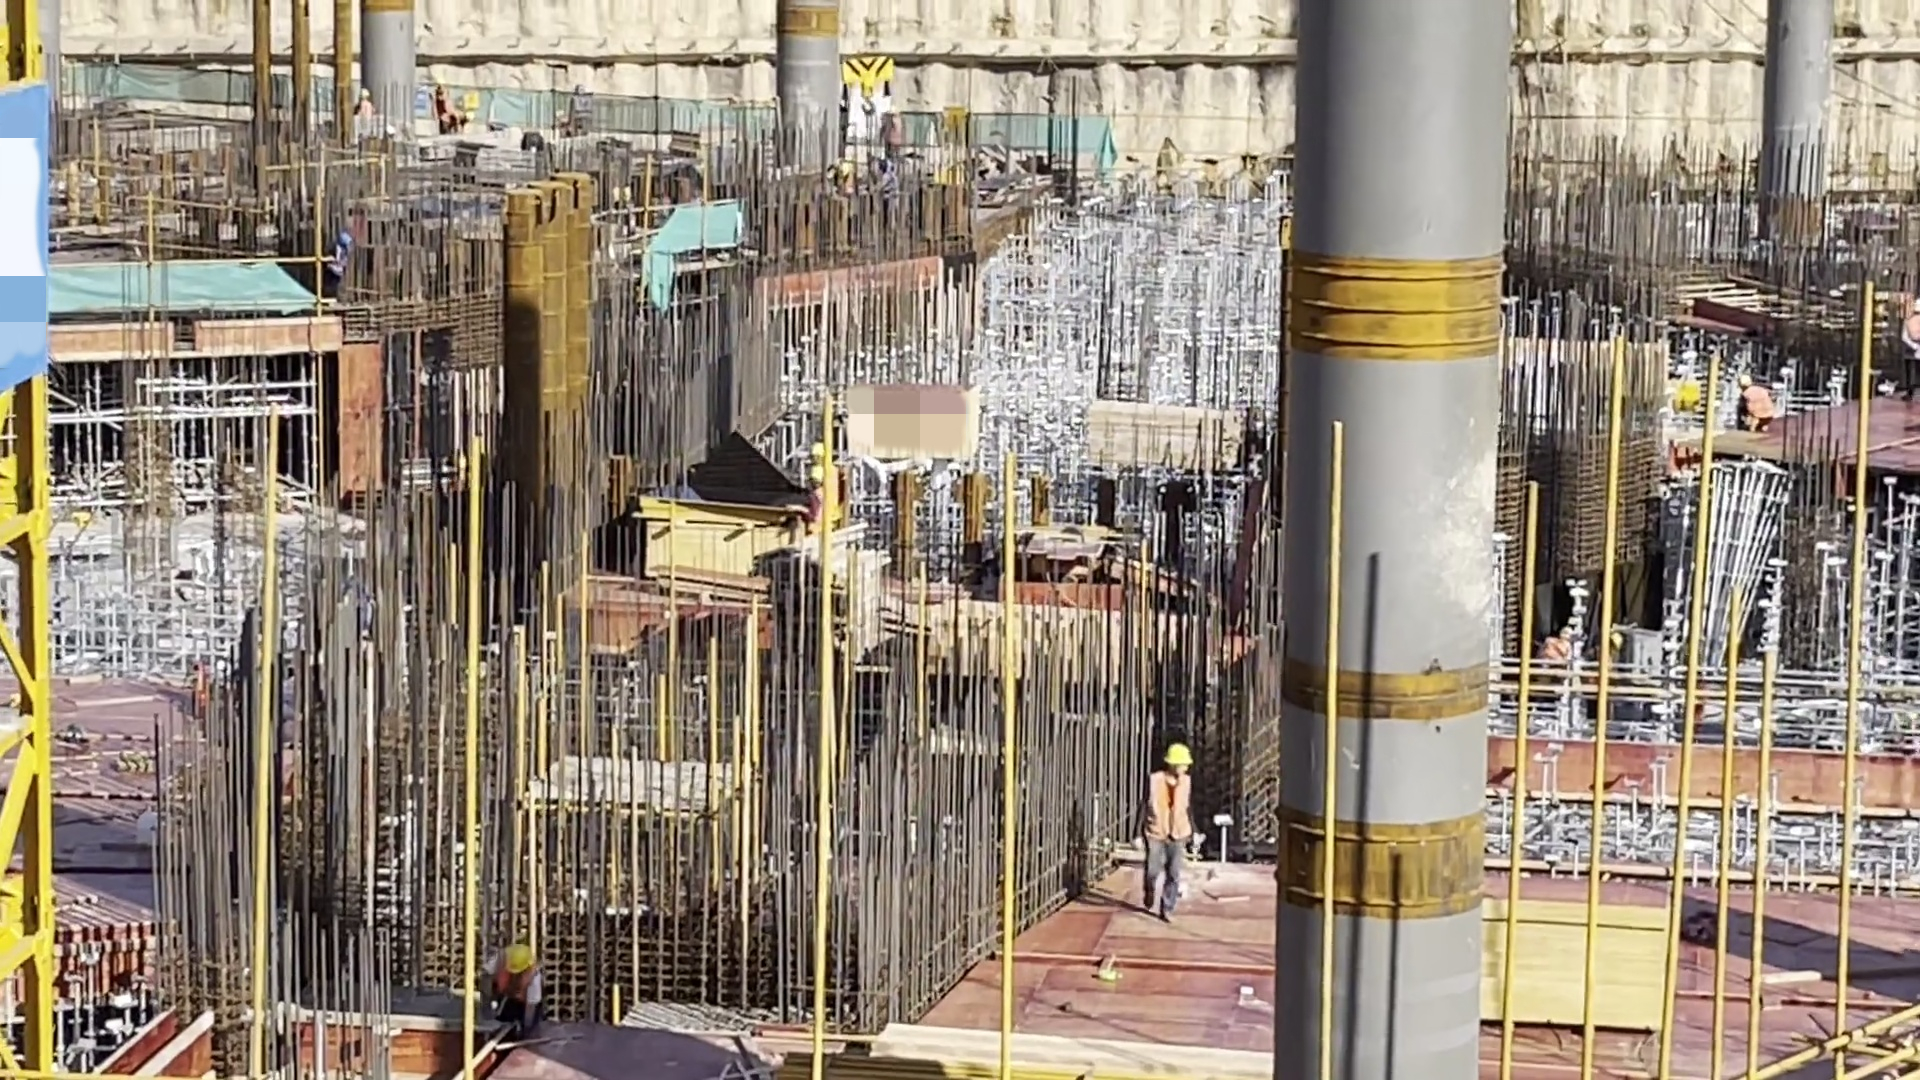board: (1476, 872, 1679, 1051), (638, 491, 800, 589)
helmet: (1161, 740, 1193, 783), (503, 939, 534, 978), (336, 228, 355, 252), (1735, 371, 1755, 390)
hook: (843, 48, 901, 117)
person: (1134, 737, 1202, 933), (488, 931, 547, 1029), (322, 227, 356, 311), (1736, 366, 1772, 443), (1895, 298, 1920, 395), (441, 98, 470, 137), (347, 86, 372, 122), (430, 81, 450, 109)
vest: (1136, 773, 1200, 860), (486, 955, 545, 1024), (1741, 383, 1773, 425), (1901, 313, 1920, 362)
wood: (1081, 402, 1256, 482)
